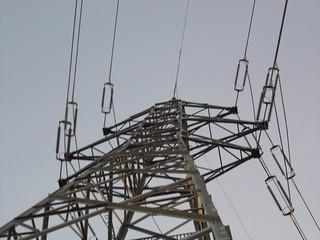power_tower: (1, 92, 294, 240)
